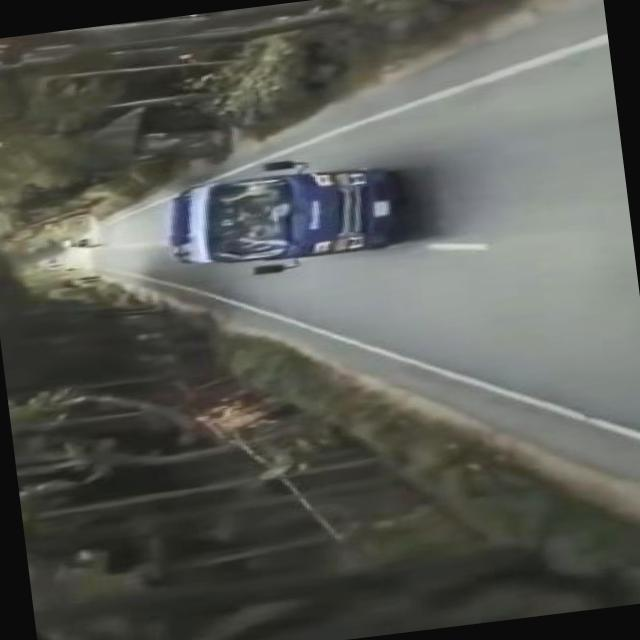truck: (158, 148, 404, 287)
